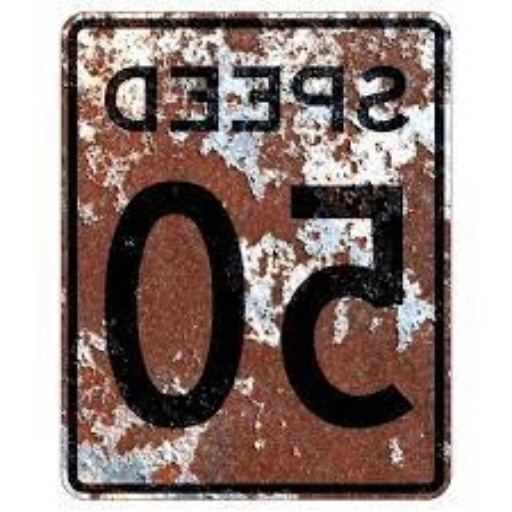Speed limit: (59, 16, 456, 491)
